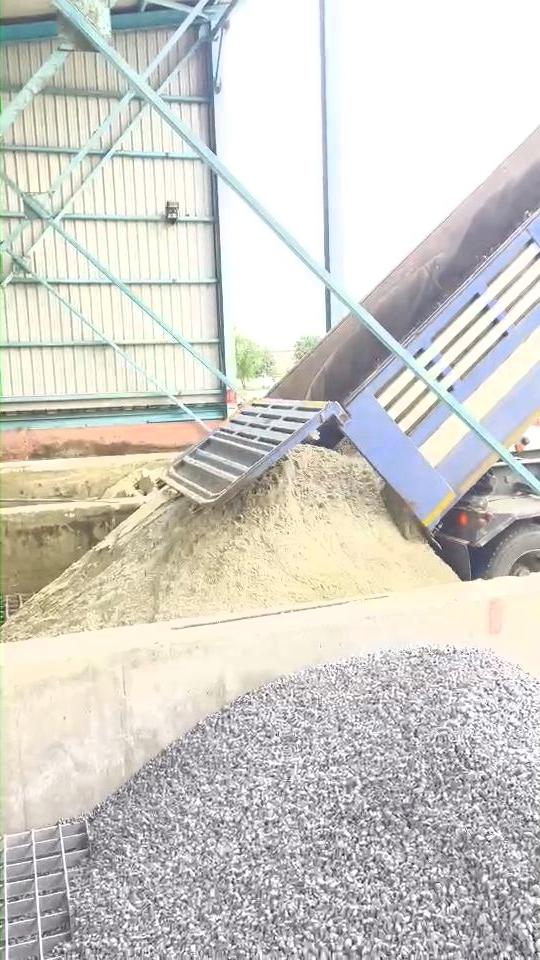gravel: (65, 648, 540, 959)
sand: (4, 446, 455, 640), (103, 465, 161, 498)
